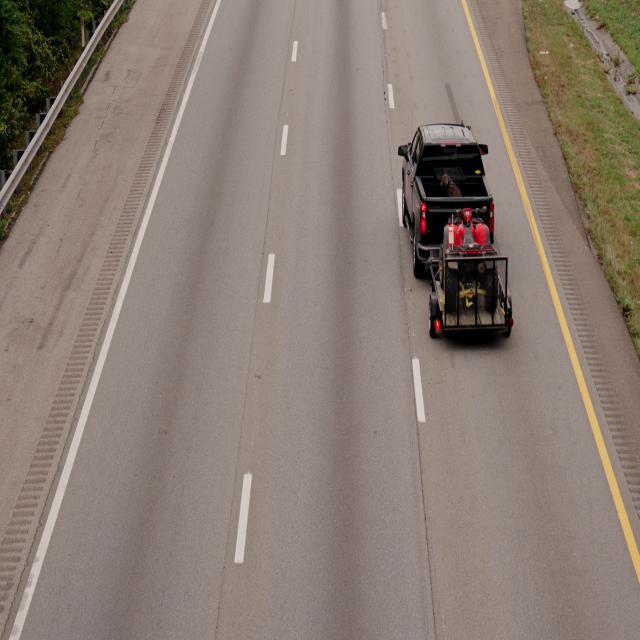Vehicle: (395, 122, 515, 350)
